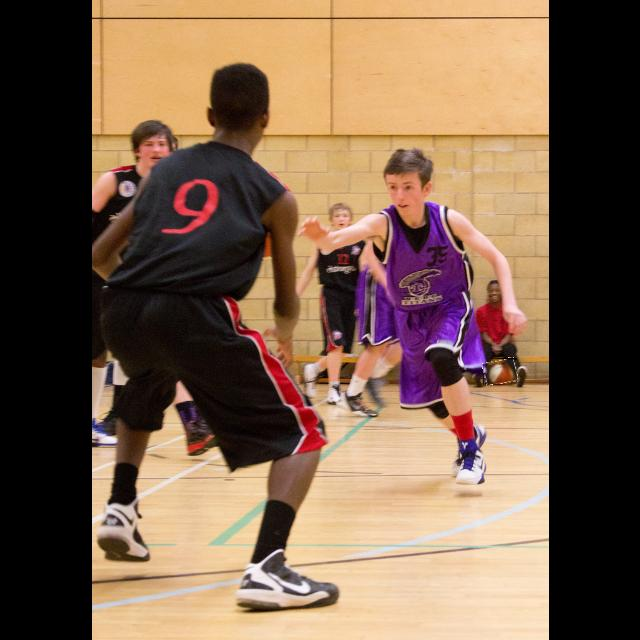Football: (483, 358, 517, 384)
